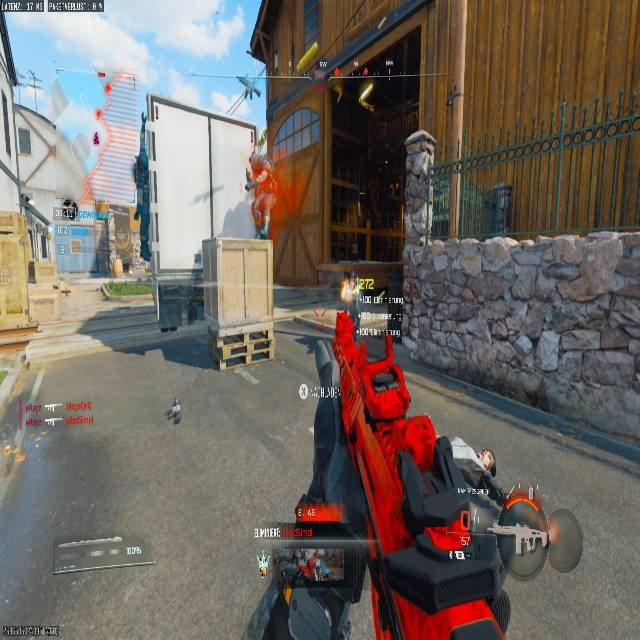head: (248, 154, 262, 172)
player: (244, 155, 275, 239)
